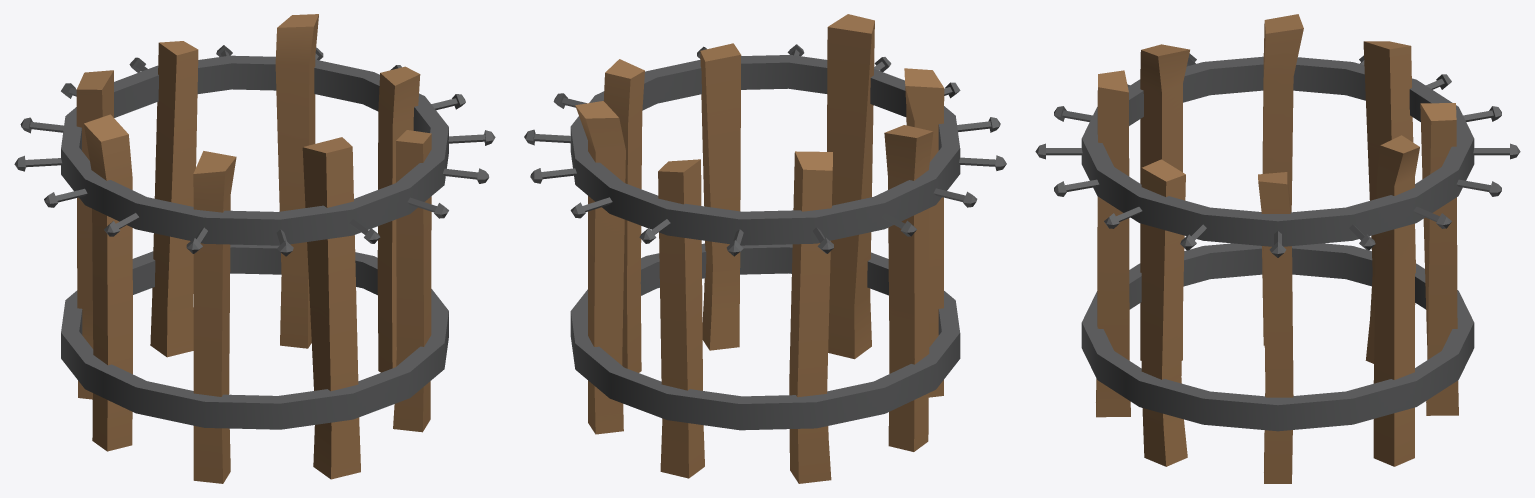
Rendered from WeaponRack_G.fbx.
3 renders of one model, left to right at view 1: azimuth 30°, elevation 25°; view 2: azimuth 150°, elevation 25°; view 3: azimuth 270°, elevation 25°, orthographic.
Visible parts, largest first — view 1: WeaponRack_G; view 2: WeaponRack_G; view 3: WeaponRack_G.
Boxes of the visible parts, bbox=[...] form: WeaponRack_G: bbox=[14, 14, 495, 483]; WeaponRack_G: bbox=[524, 14, 1006, 483]; WeaponRack_G: bbox=[1035, 14, 1520, 483].
Size of the model in its own units: 188 by 140 by 188.
